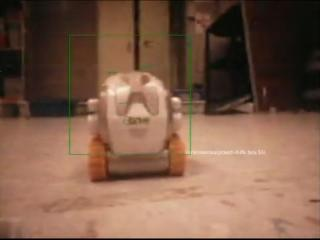cozmo: (79, 70, 187, 182)
